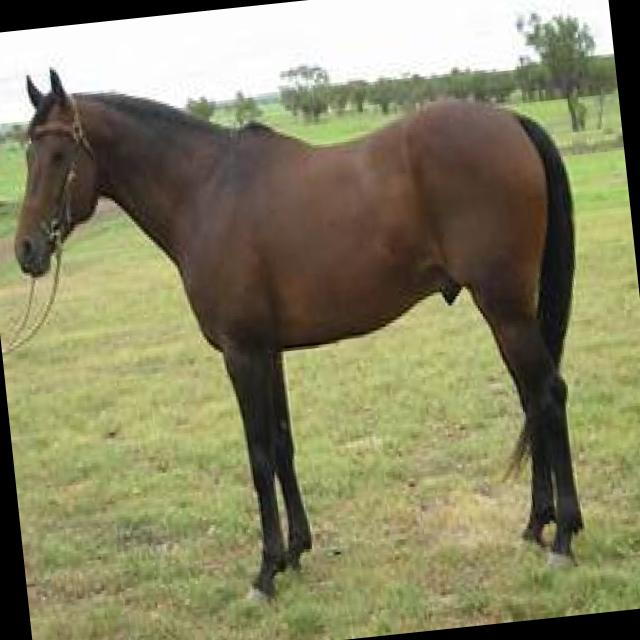horse: (0, 10, 613, 623)
